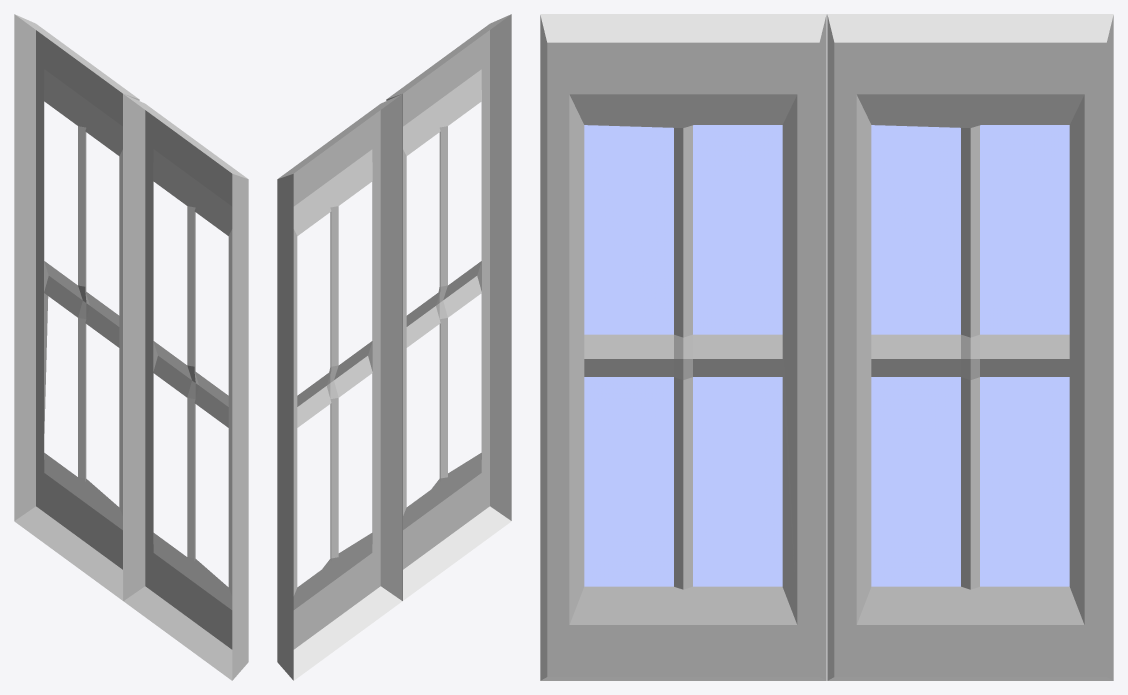
File: window_001.glb
The picture shows the model from 3 angles, left to right: view 1: azimuth 30°, elevation 25°; view 2: azimuth 150°, elevation 25°; view 3: azimuth 270°, elevation 25°; orthographic projection. The views are drawn at different scales.
Parts seen in each view (by area): view 1: Window(2), Window(2).001; view 2: Window(2).001, Window(2); view 3: Window(2).001, Window(2), Window(2).002, Window(2).003.
Boxes of the visible parts, x1,y1,x2,y2 form: Window(2): (123,94,248,680); Window(2).001: (14,14,139,600); Window(2).001: (277,94,402,680); Window(2): (386,14,511,600); Window(2).001: (827,14,1113,680); Window(2): (540,14,826,680); Window(2).002: (871,125,1069,586); Window(2).003: (584,125,782,586).
Size of the model in its own units: 0.1158 by 2.93 by 2.28.
